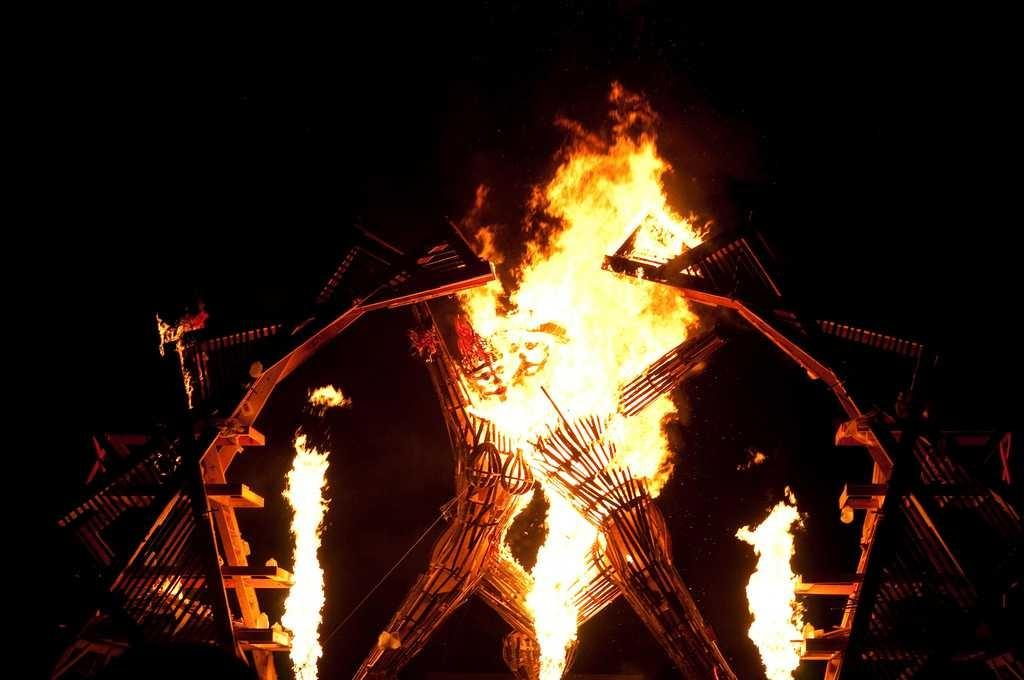fire: (553, 162, 663, 467), (533, 503, 588, 677), (288, 447, 327, 677), (753, 523, 792, 668)
